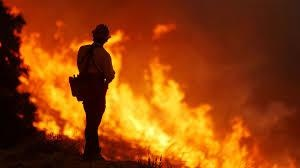fire: (82, 21, 280, 161), (15, 12, 90, 143)
